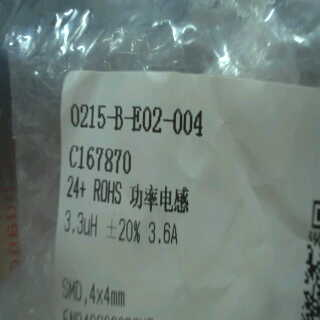3.3uH: (58, 208, 104, 244)
